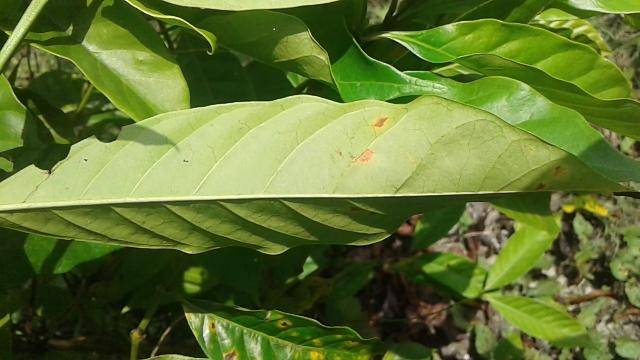rust_level_1: (0, 94, 638, 257)
